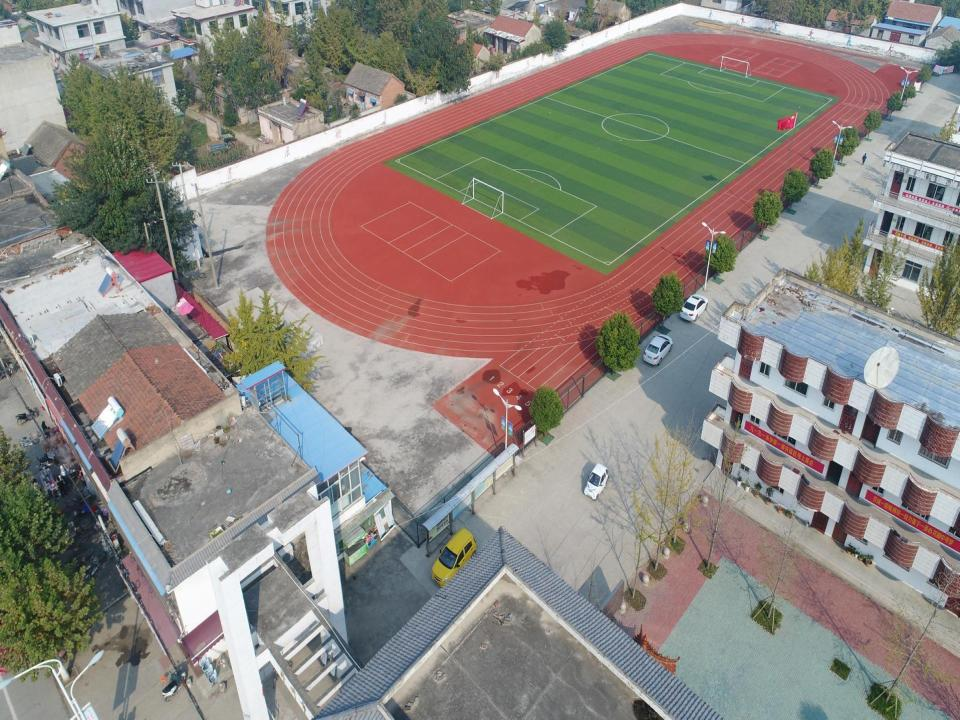car: (430, 525, 476, 583), (640, 333, 672, 369), (584, 461, 610, 497), (677, 293, 707, 323)
